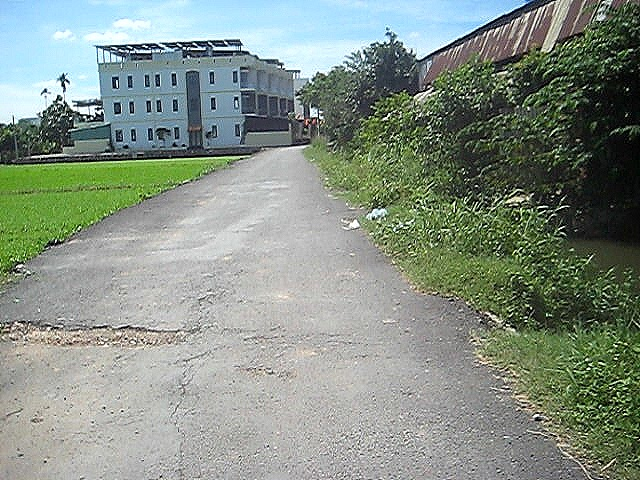hole: (1, 318, 193, 345)
